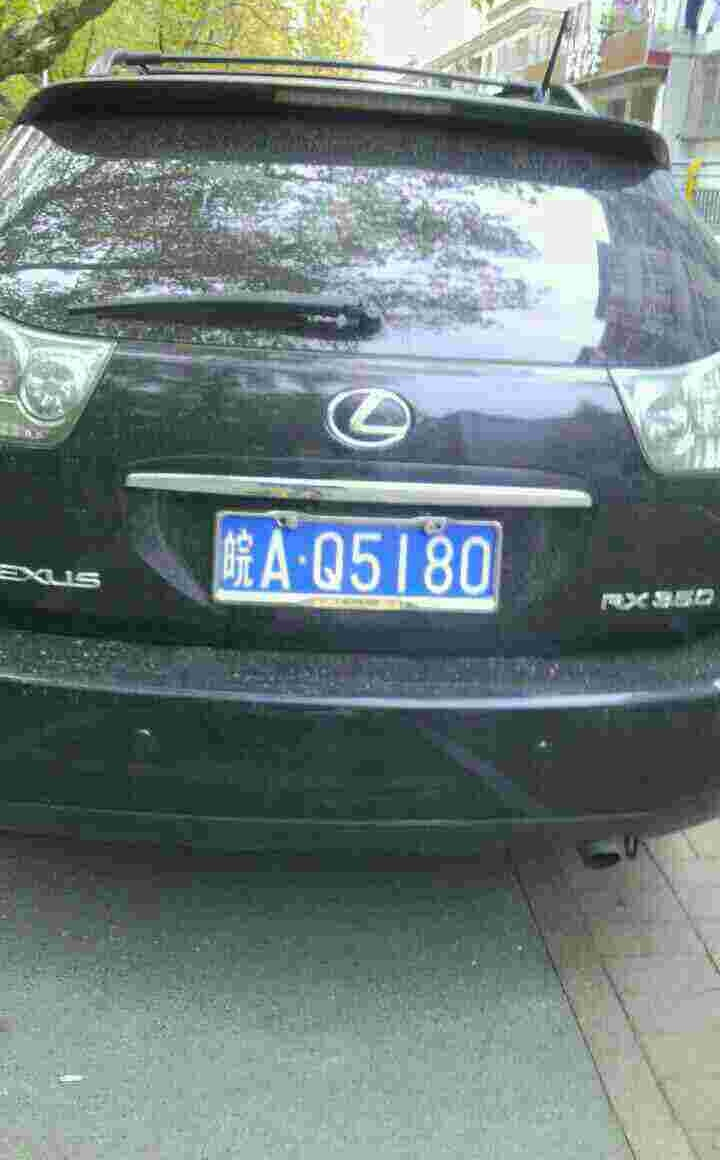license_plate: (225, 522, 497, 602)
